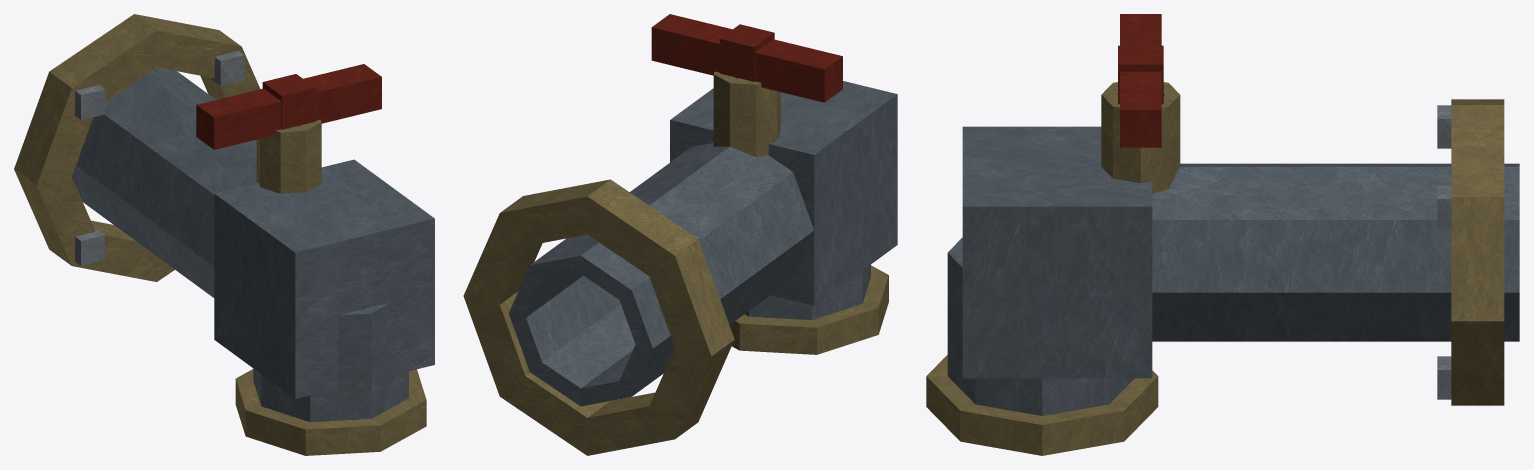
Rendered from faucet.gltf.
3 renders of one model, left to right at view 1: azimuth 30°, elevation 25°; view 2: azimuth 150°, elevation 25°; view 3: azimuth 270°, elevation 25°, orthographic. The views are drawn at different scales.
Bounding box in the file's own units: 0.43 × 0.5125 × 0.783.
4 materials, 4 textured.
